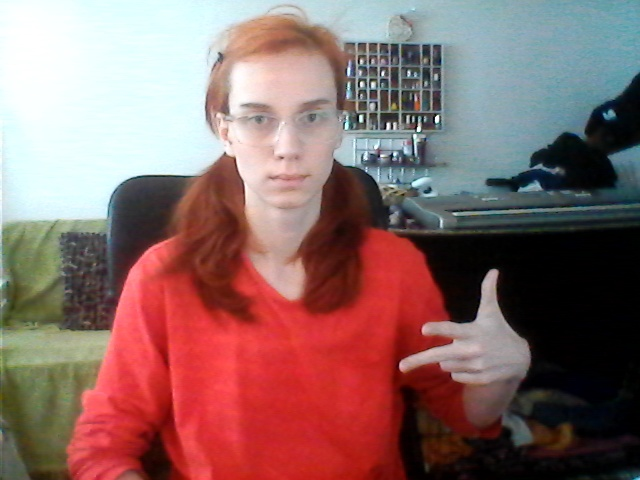tri: (393, 270, 537, 396)
